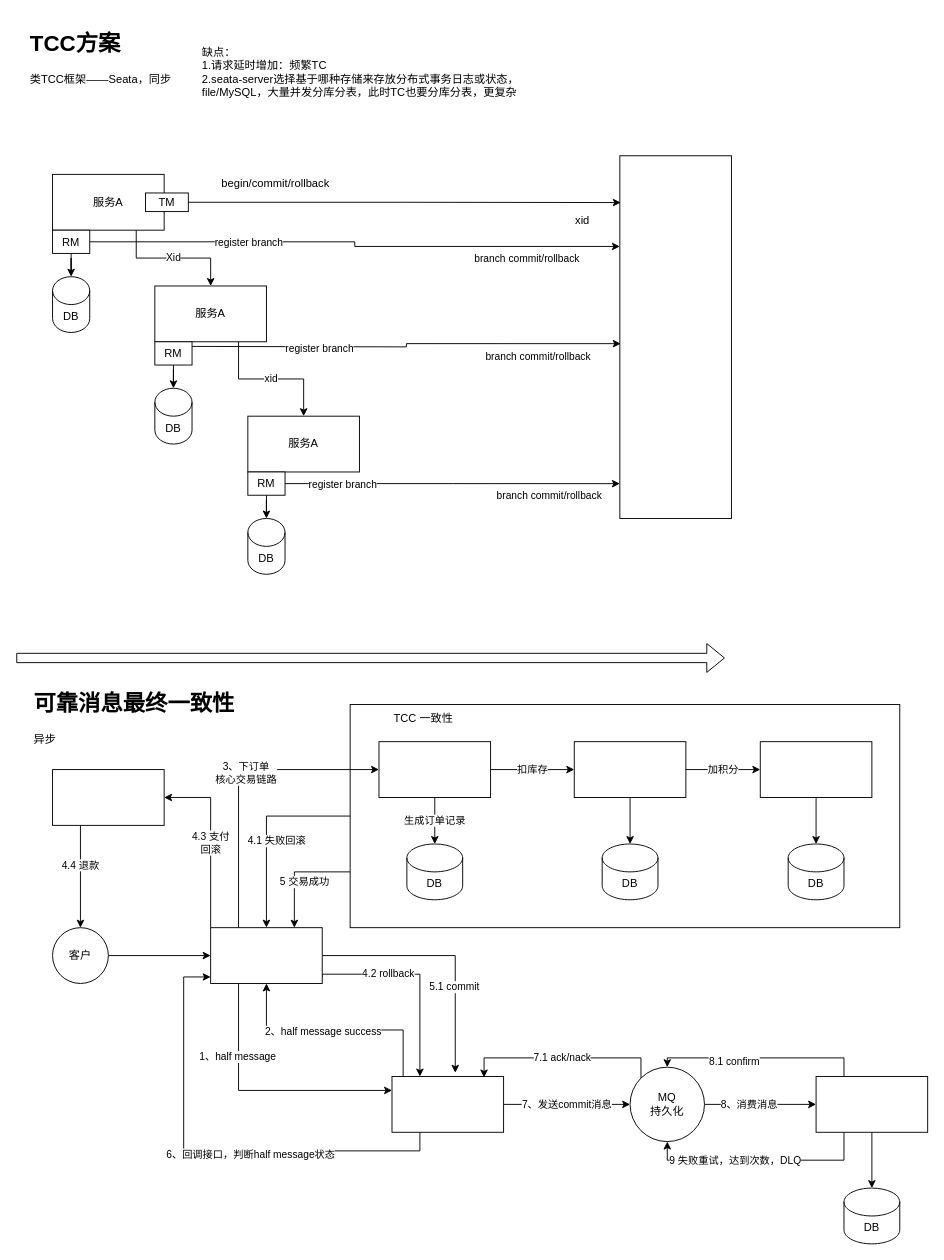
The diagram is 944 pixels wide and 1260 high, and some of its shapes have lost their labels. Each missing label, with the centre of its shape:
Seata Server TC: the point at 675,336
仓储服务: the point at 871,1104
可靠消息服务: the point at 447,1104
库存服务: the point at 629,769
支付服务: the point at 108,797
积分服务: the point at 815,769
订单接口: the point at 266,955
订单服务: the point at 434,769
